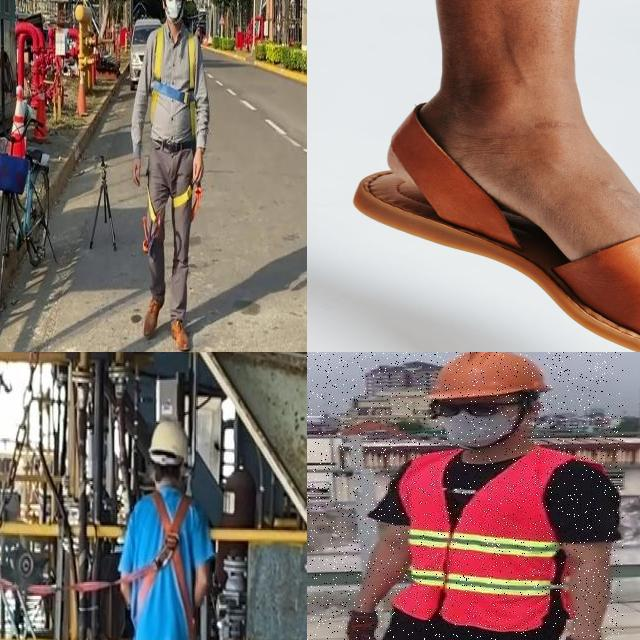Harness: (131, 482, 203, 640), (152, 27, 196, 136)
Sandals: (348, 77, 640, 352)
head_helmet: (423, 352, 557, 404)
person: (307, 352, 623, 640)
vest: (390, 448, 576, 632)
